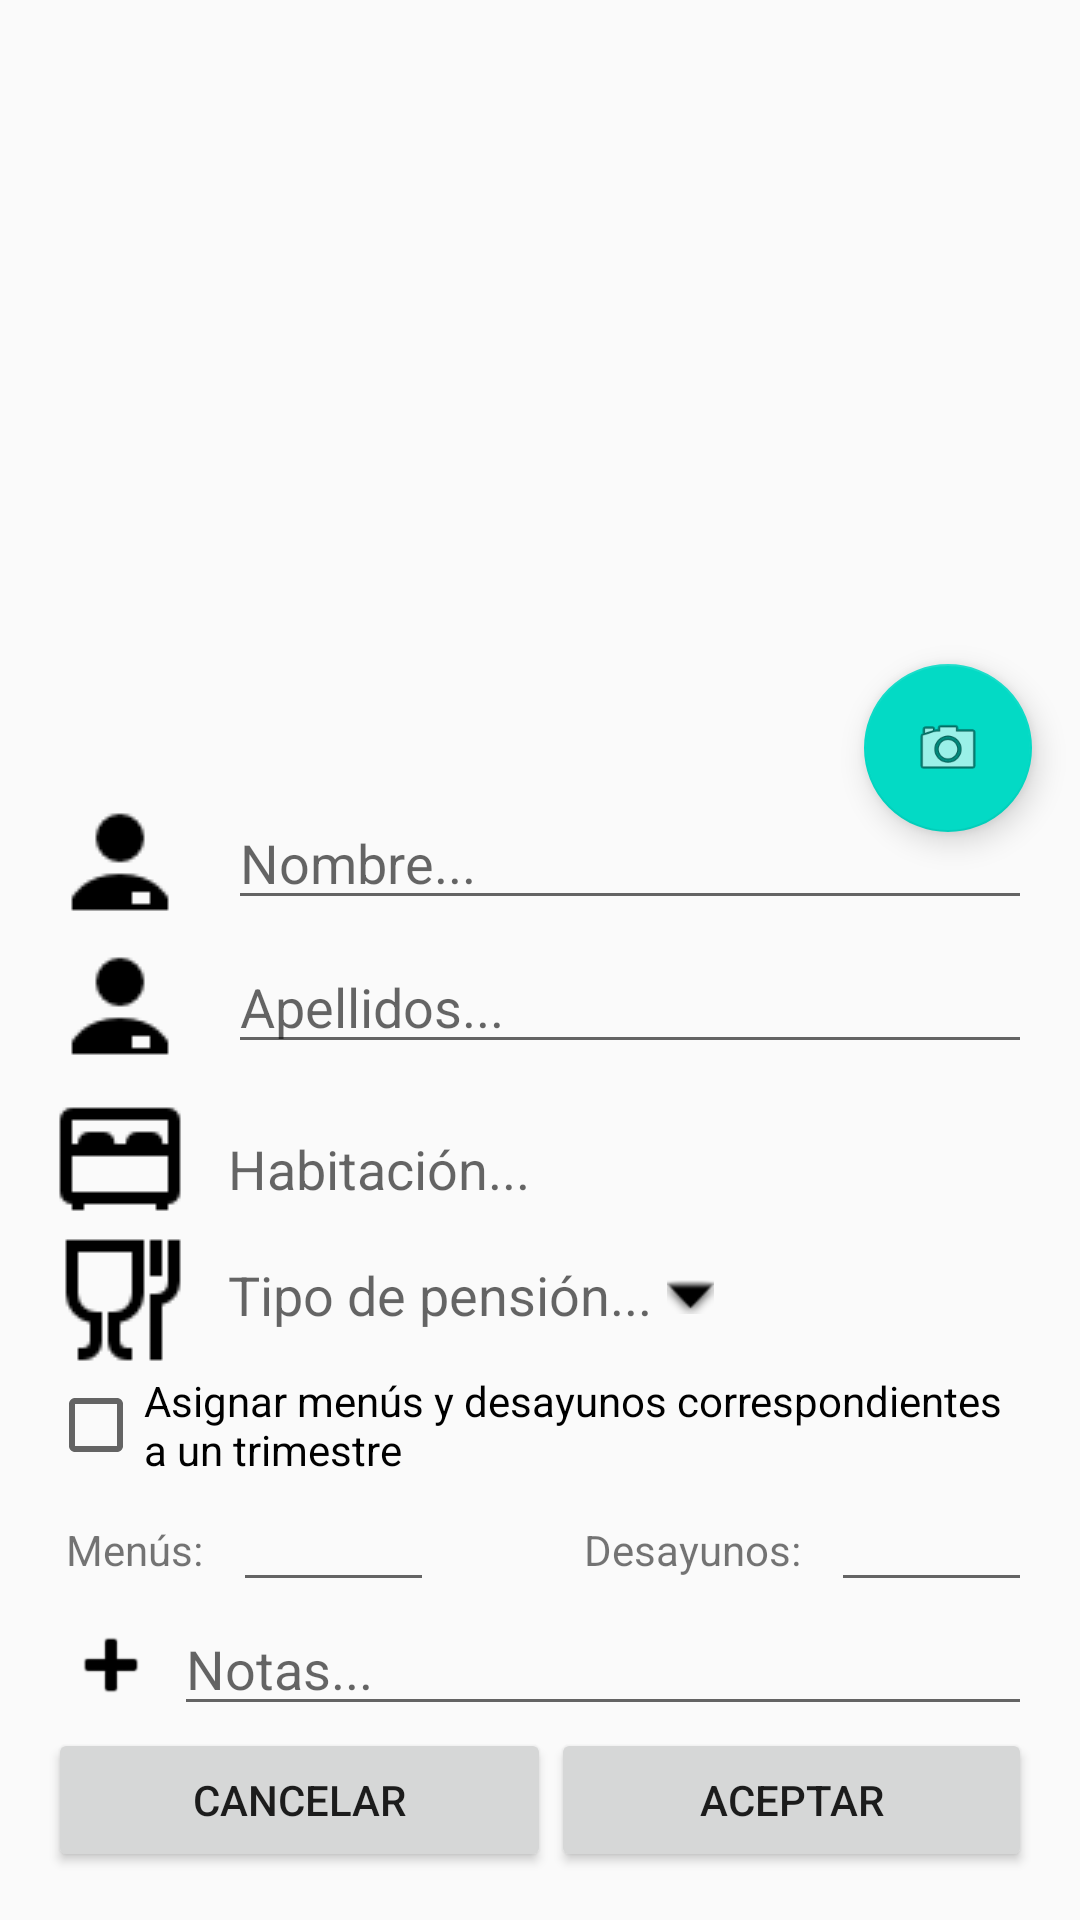

Where icons sit on this 1080*1920 app screen, as (x1, y1, x2, y2):
add: (84, 1638, 138, 1692)
arrow down float: (667, 1281, 714, 1313)
camera: (864, 664, 1032, 832)
pension: (65, 1239, 181, 1361)
room: (59, 1107, 181, 1211)
user: (71, 813, 169, 911), (71, 957, 169, 1055)
